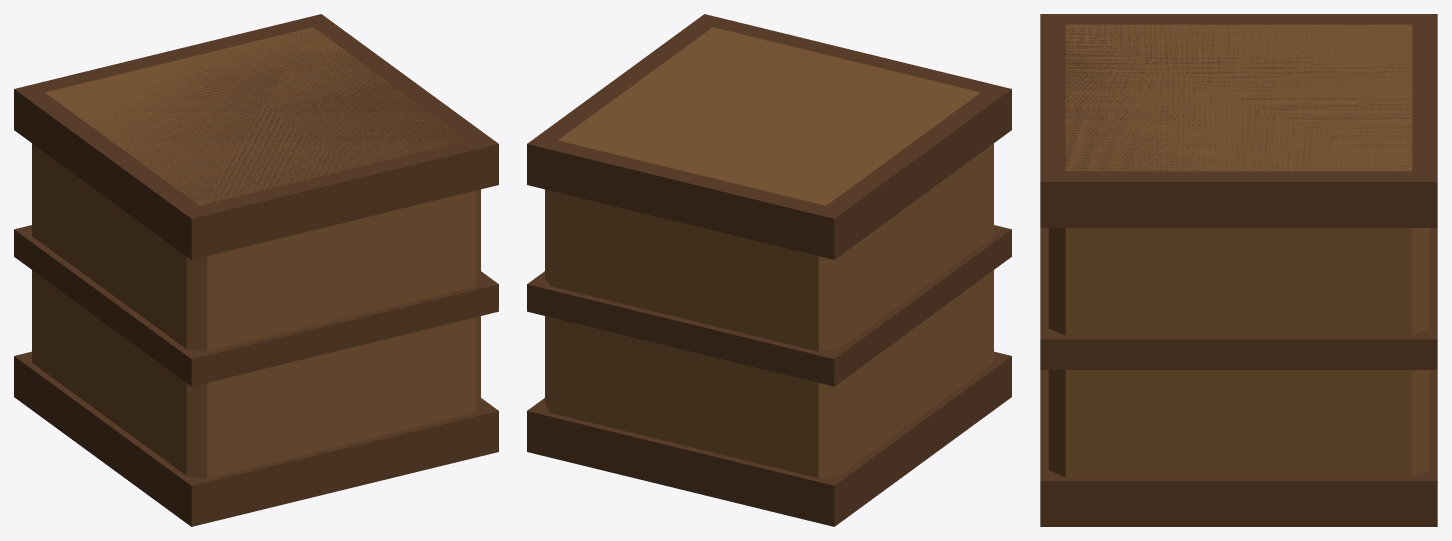
File: PR_Crate.fbx
The picture shows the model from 3 angles, left to right: view 1: azimuth 30°, elevation 25°; view 2: azimuth 150°, elevation 25°; view 3: azimuth 270°, elevation 25°; orthographic projection. The views are drawn at different scales.
Visible parts, largest first — view 1: PR_Crate, PR_Crate_Band0.84, PR_Crate_Band0.06, PR_Crate_Slat; view 2: PR_Crate, PR_Crate_Band0.84, PR_Crate_Band0.06, PR_Crate_Slat; view 3: PR_Crate, PR_Crate_Band0.84, PR_Crate_Band0.06, PR_Crate_Slat.
Boxes of the visible parts, x1,y1,x2,y2 form: PR_Crate: (32, 27, 480, 478); PR_Crate_Band0.84: (14, 14, 498, 259); PR_Crate_Band0.06: (14, 351, 498, 526); PR_Crate_Slat: (14, 225, 498, 386); PR_Crate: (545, 27, 993, 478); PR_Crate_Band0.84: (527, 14, 1011, 259); PR_Crate_Band0.06: (527, 351, 1011, 526); PR_Crate_Slat: (527, 225, 1011, 386); PR_Crate: (1048, 24, 1429, 477); PR_Crate_Band0.84: (1040, 14, 1437, 227); PR_Crate_Band0.06: (1040, 370, 1437, 526); PR_Crate_Slat: (1040, 228, 1437, 369).
Size of the model in its own units: 0.94 by 0.94 by 0.9.
